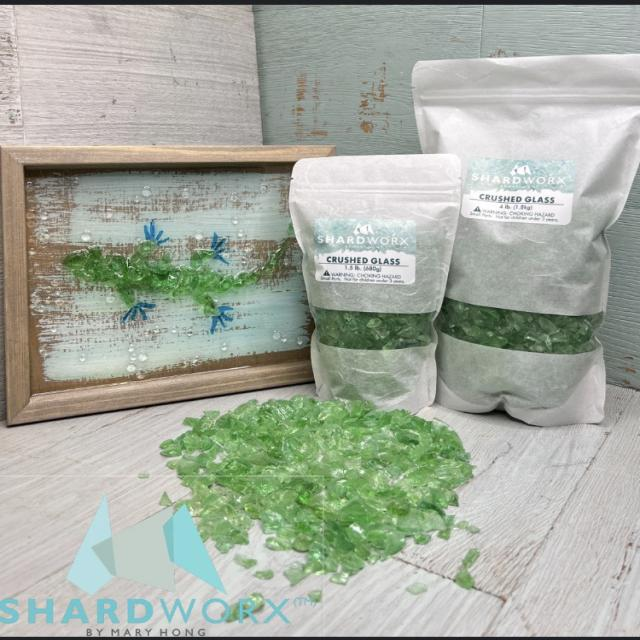PecahanKaca: (156, 393, 480, 588)
